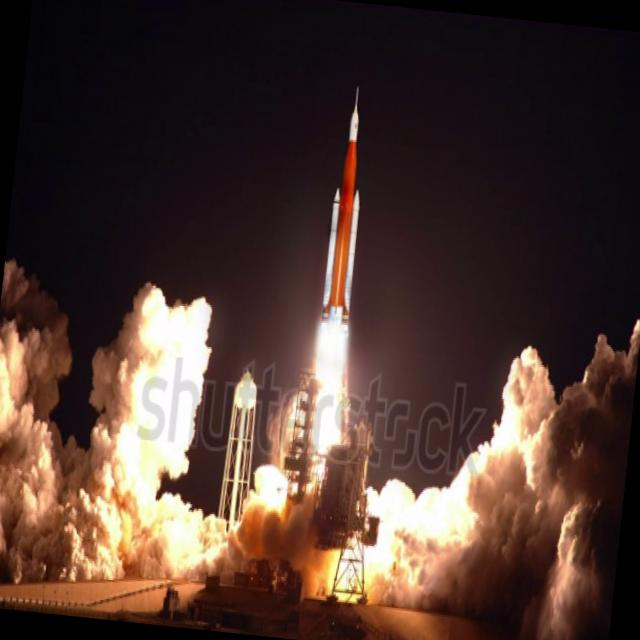rocket: (304, 79, 382, 393)
